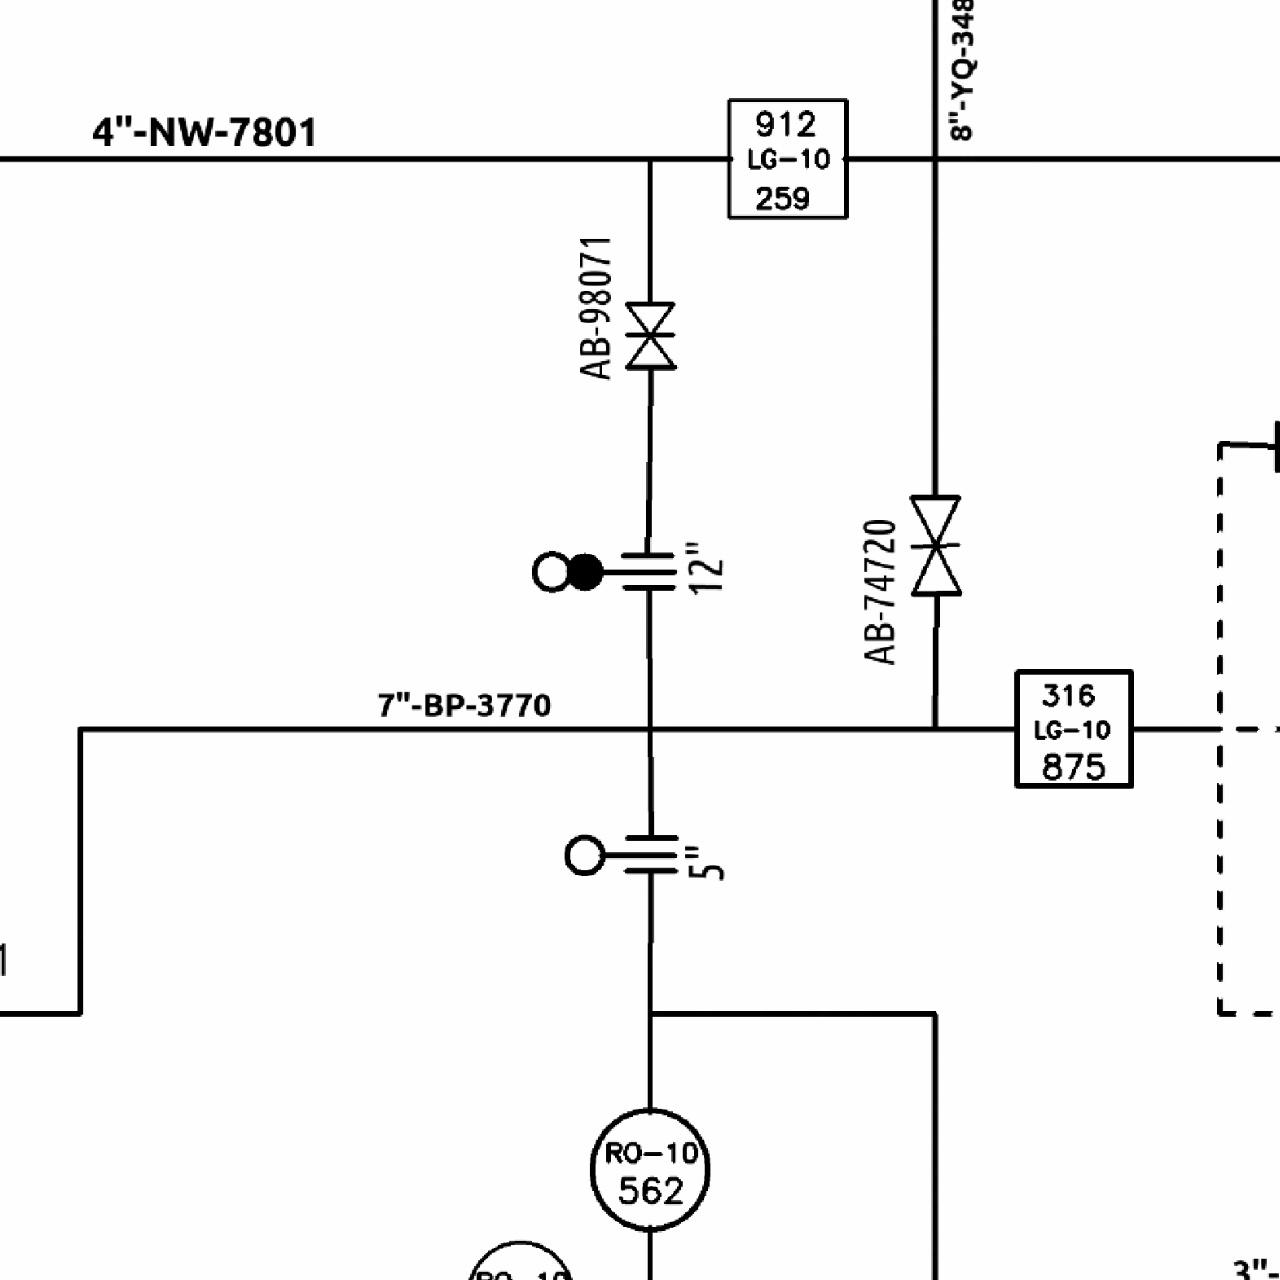Control-Panel: (583, 1103, 715, 1235)
